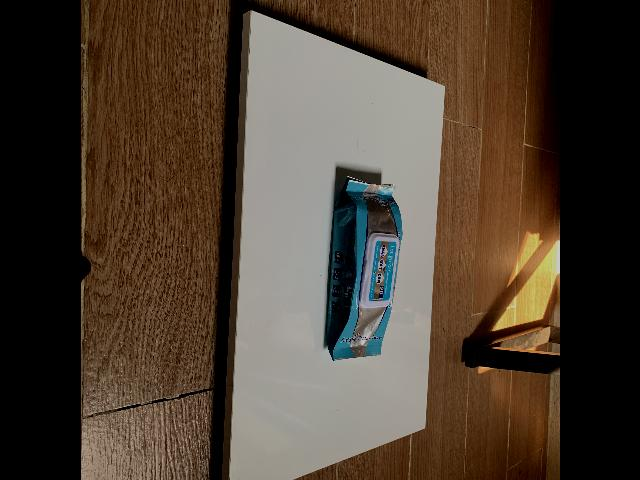Let-green_alcohol_wipes: (322, 171, 402, 361)
